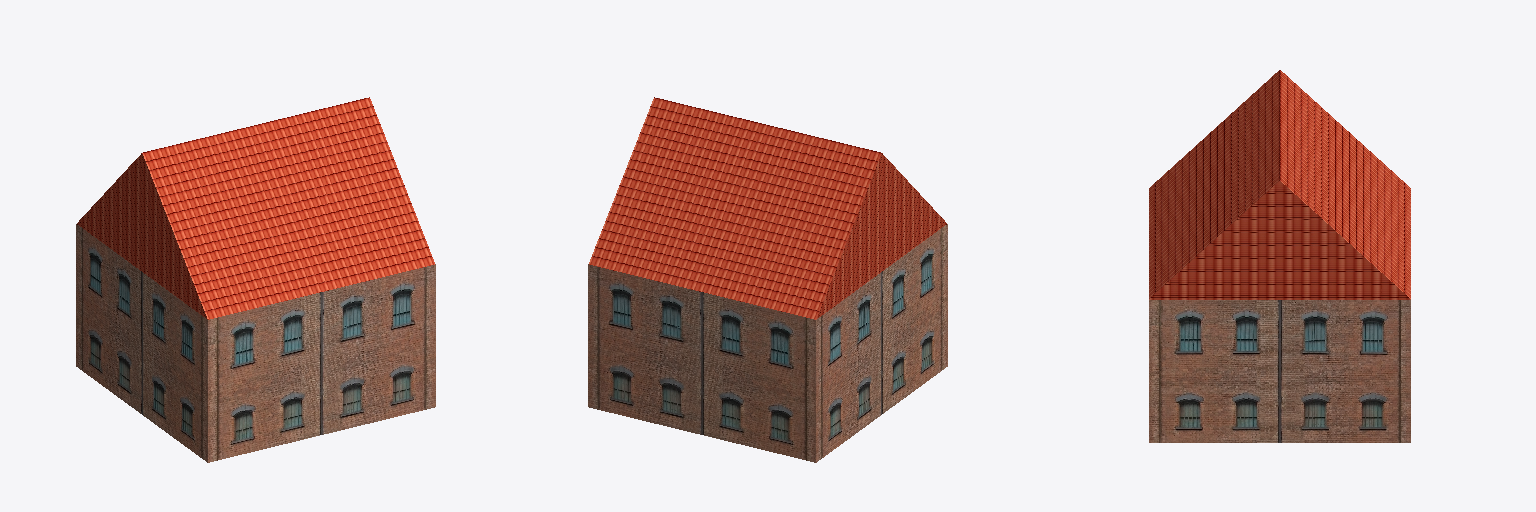
3 views of the same model, side by side, from view 1: azimuth 30°, elevation 25°; view 2: azimuth 150°, elevation 25°; view 3: azimuth 270°, elevation 25° (orthographic).
Visible parts, largest first — view 1: Cube_Cube.001, Cube.001_Cube.002; view 2: Cube_Cube.001, Cube.001_Cube.002; view 3: Cube.001_Cube.002, Cube_Cube.001.
Boxes of the visible parts, x1,y1,x2,y2 form: Cube_Cube.001: [76, 224, 435, 462]; Cube.001_Cube.002: [77, 97, 434, 319]; Cube_Cube.001: [588, 224, 947, 462]; Cube.001_Cube.002: [589, 97, 946, 319]; Cube.001_Cube.002: [1149, 70, 1410, 299]; Cube_Cube.001: [1149, 300, 1410, 442].
Bounding box in the file's own units: 50 × 55 × 50.
2 materials, 2 textured.